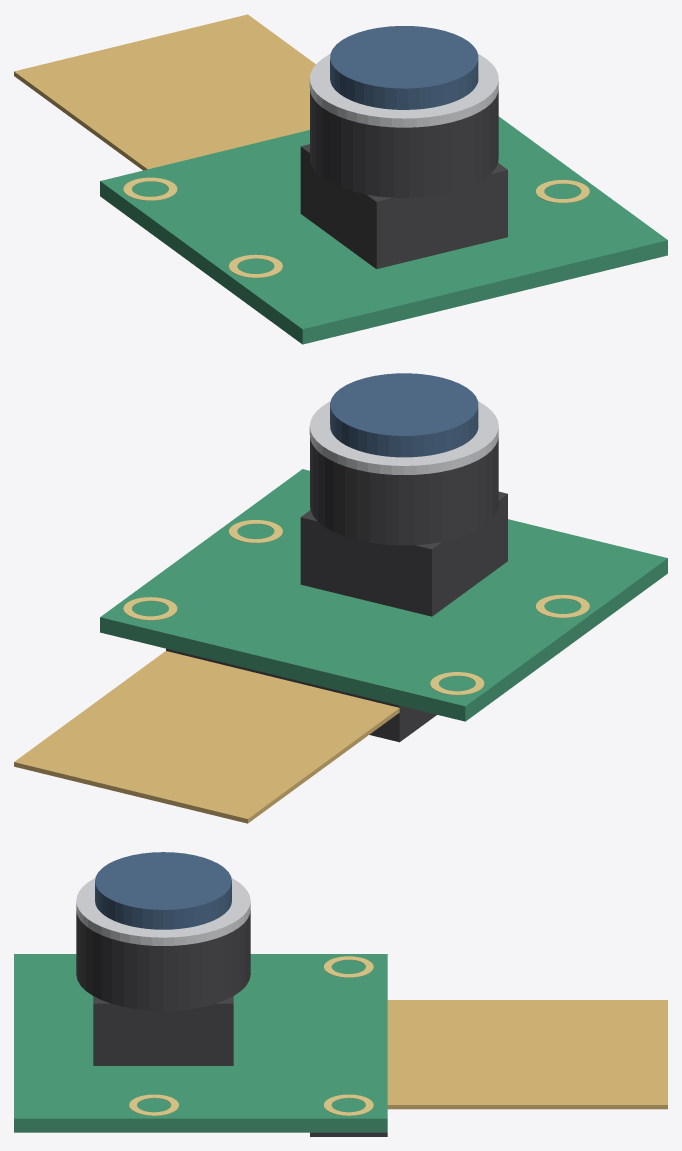
The model's file is cam3_wide.glb.
3 views of the same model, one above another, from view 1: azimuth 30°, elevation 25°; view 2: azimuth 150°, elevation 25°; view 3: azimuth 270°, elevation 25° (orthographic). The views are drawn at different scales.
Parts seen in each view (by area): view 1: cam3_wide_1_pcb_green, cam3_wide_11_fpc, cam3_wide_7_plastic_black, cam3_wide_6_plastic_black, cam3_wide_9_glass, cam3_wide_8_steel, cam3_wide_2_gold, cam3_wide_3_gold, cam3_wide_5_gold; view 2: cam3_wide_1_pcb_green, cam3_wide_11_fpc, cam3_wide_7_plastic_black, cam3_wide_6_plastic_black, cam3_wide_9_glass, cam3_wide_8_steel, cam3_wide_10_plastic_black; view 3: cam3_wide_1_pcb_green, cam3_wide_11_fpc, cam3_wide_7_plastic_black, cam3_wide_9_glass, cam3_wide_6_plastic_black, cam3_wide_8_steel, cam3_wide_5_gold, cam3_wide_2_gold, cam3_wide_4_gold.
Boxes of the visible parts, x1,y1,x2,y2 form: cam3_wide_1_pcb_green: (100,116,667,344); cam3_wide_11_fpc: (14,14,315,170); cam3_wide_7_plastic_black: (310,90,498,197); cam3_wide_6_plastic_black: (300,144,507,269); cam3_wide_9_glass: (330,26,478,109); cam3_wide_8_steel: (309,54,498,127); cam3_wide_2_gold: (123,177,177,200); cam3_wide_3_gold: (229,254,282,277); cam3_wide_5_gold: (536,180,589,202); cam3_wide_1_pcb_green: (100,469,667,721); cam3_wide_11_fpc: (14,651,399,823); cam3_wide_7_plastic_black: (310,437,498,545); cam3_wide_6_plastic_black: (300,491,507,616); cam3_wide_9_glass: (330,373,478,457); cam3_wide_8_steel: (309,401,498,474); cam3_wide_10_plastic_black: (166,648,436,742); cam3_wide_1_pcb_green: (14,954,387,1132); cam3_wide_11_fpc: (387,1000,667,1109); cam3_wide_7_plastic_black: (76,910,250,1010); cam3_wide_9_glass: (95,852,231,929); cam3_wide_6_plastic_black: (93,996,233,1065); cam3_wide_8_steel: (76,878,250,945); cam3_wide_5_gold: (129,1094,178,1115); cam3_wide_2_gold: (324,956,373,977); cam3_wide_4_gold: (324,1094,373,1115).
Size of the model in its own units: 25 by 14.4 by 42.
